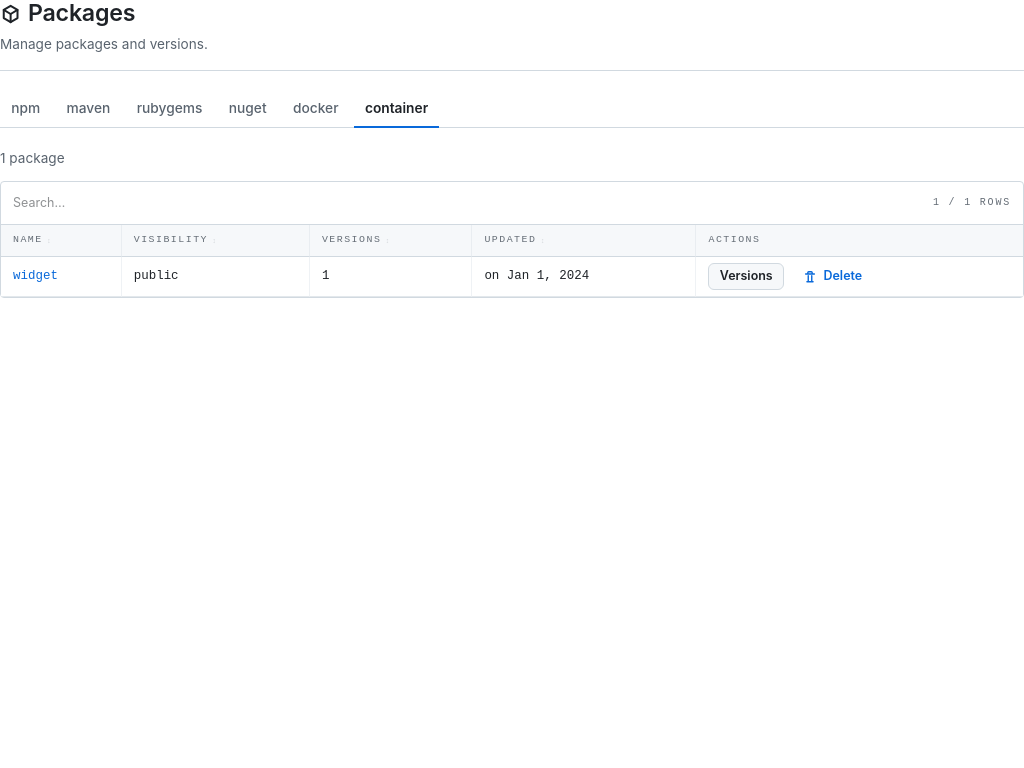
failing mutations surface on the page › PackagesPage shows an error when deleting a package fails
Click the button "Delete": [833, 277] box [792, 263, 874, 290]
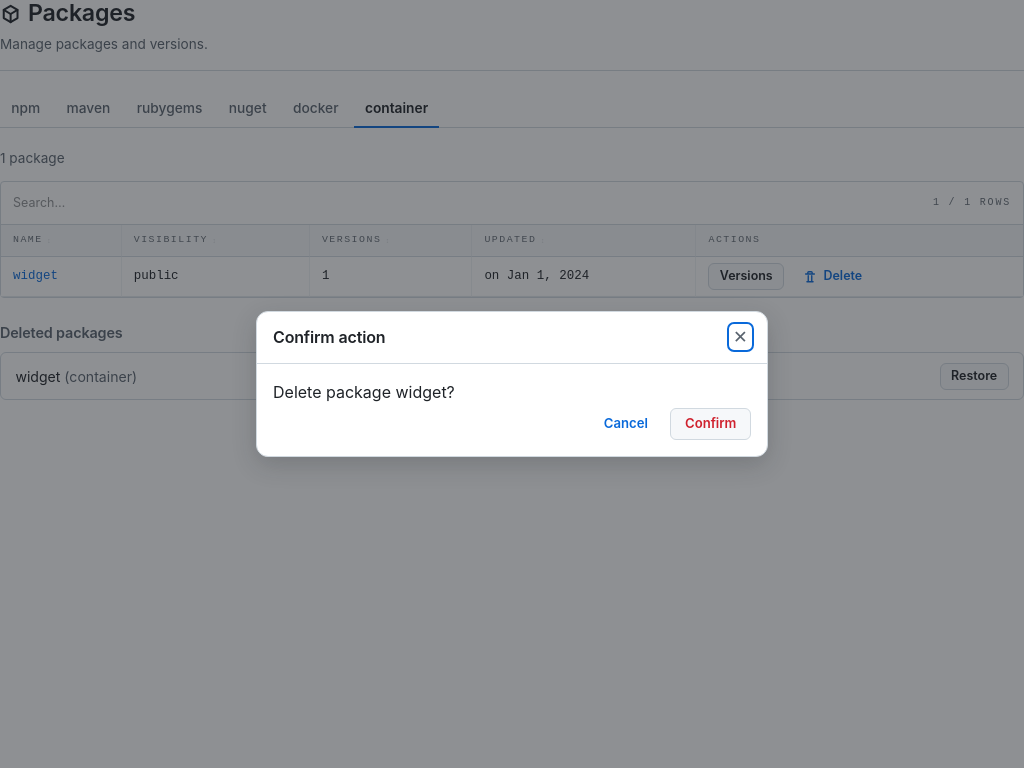
Click the button "Confirm": [711, 424] box [670, 408, 751, 440]
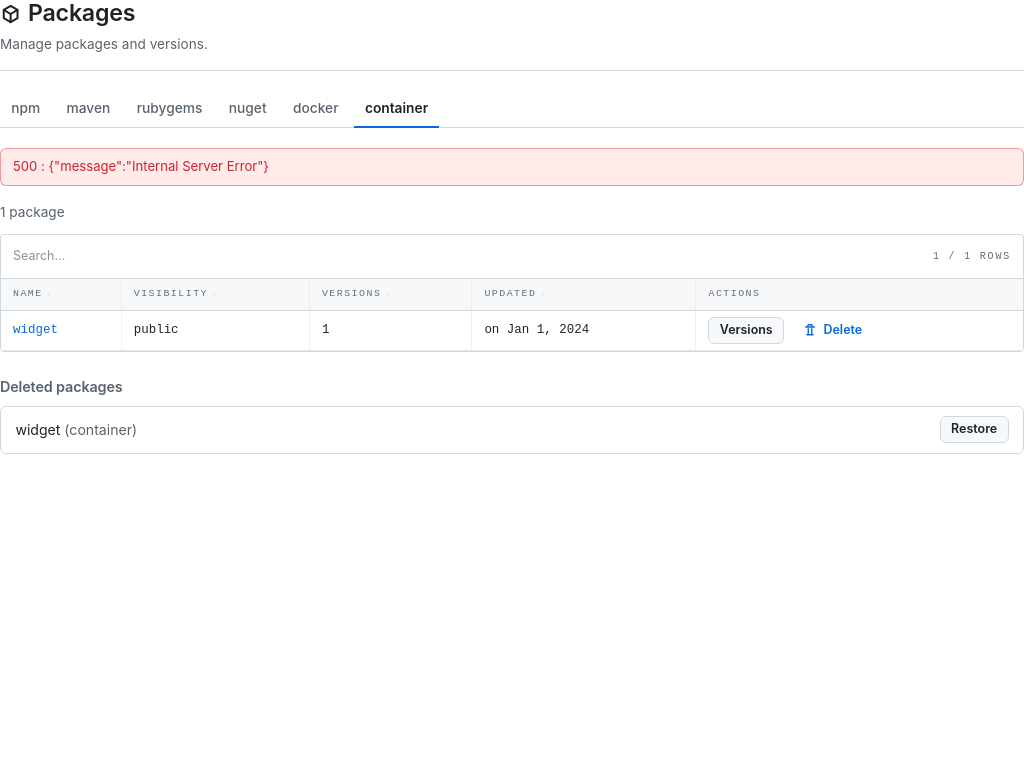
Expected: the message shows "500", [13, 158, 269, 174]
